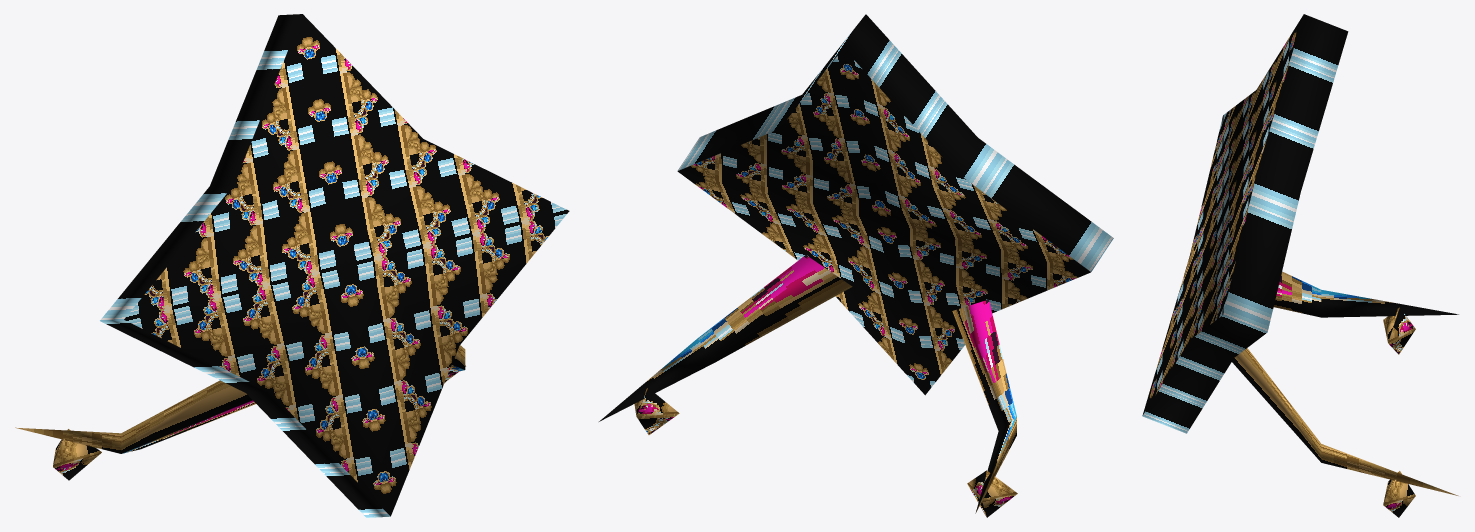
File: 3707kg_tr_mir.gltf
The picture shows the model from 3 angles, left to right: view 1: azimuth 30°, elevation 25°; view 2: azimuth 150°, elevation 25°; view 3: azimuth 270°, elevation 25°; orthographic projection. The views are drawn at different scales.
Visible parts, largest first — view 1: 3707kg_tr_mir; view 2: 3707kg_tr_mir; view 3: 3707kg_tr_mir.
Part boxes in pixels (<box>): 3707kg_tr_mir: <box>15,14,569,517</box>; 3707kg_tr_mir: <box>599,14,1113,517</box>; 3707kg_tr_mir: <box>1142,14,1458,517</box>.
Size of the model in its own units: 0.8999 by 0.8879 by 0.6064.
1 material, 1 textured.
